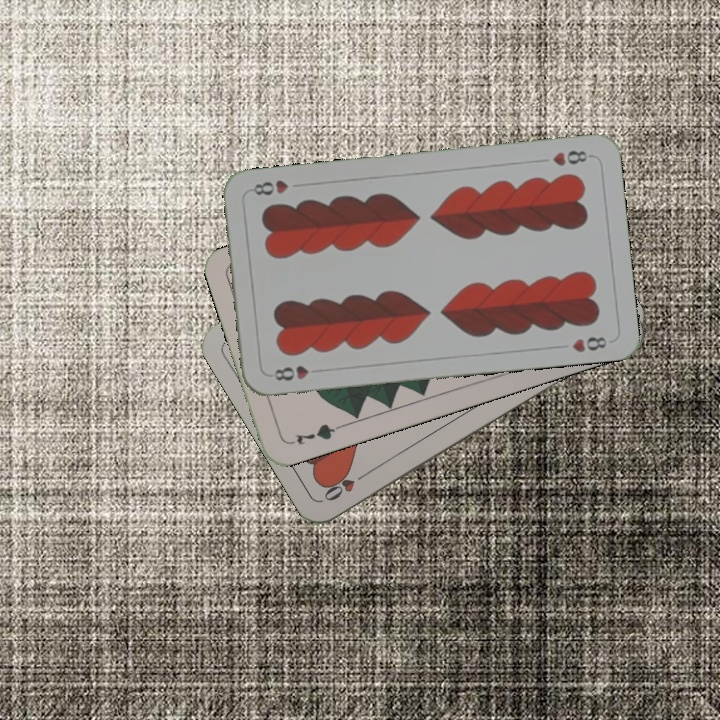G7: (285, 420, 343, 448)
H8: (270, 361, 325, 384), (548, 146, 595, 169)
HO: (319, 466, 372, 504)
